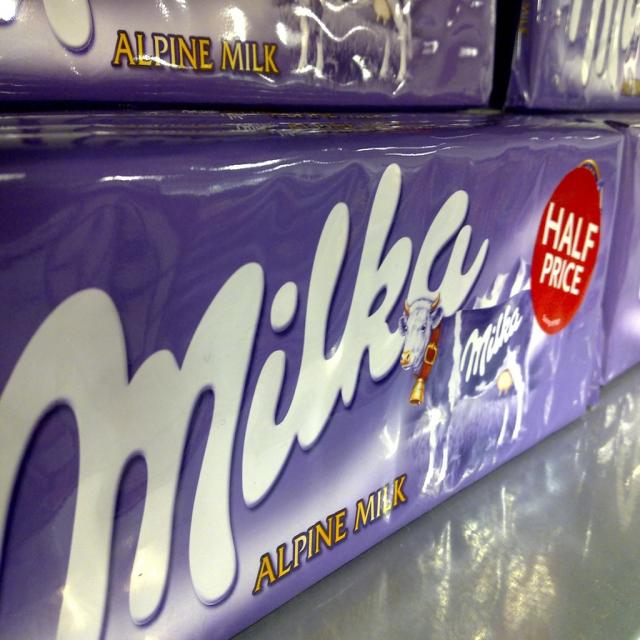milka: (2, 162, 542, 640)
